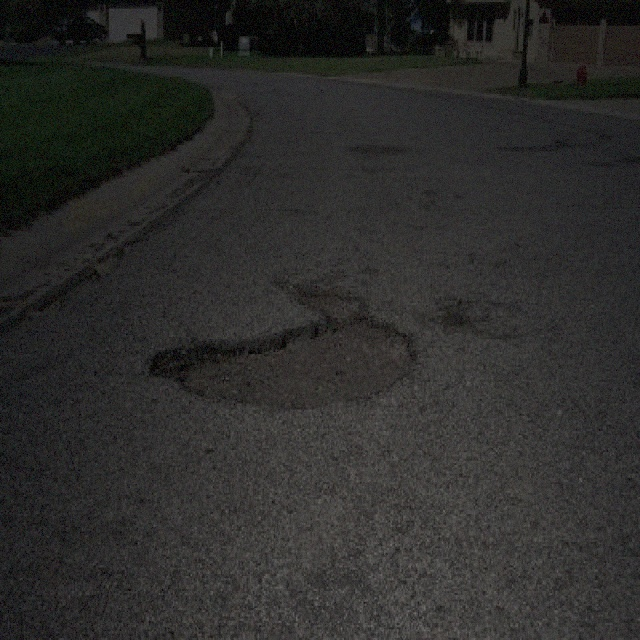pothole: (146, 312, 419, 409), (283, 279, 365, 318), (430, 307, 468, 333)
